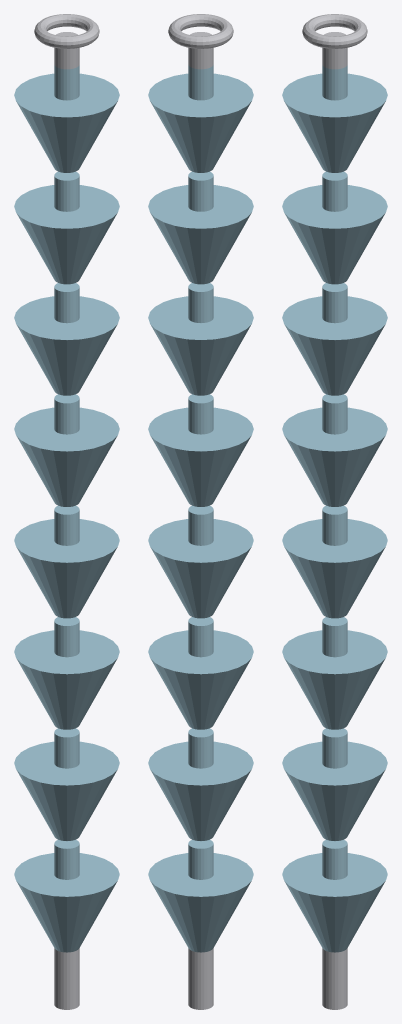
Rendered from Cadena_1022mm.fbx.
3 views of the same model, side by side, from view 1: azimuth 90°, elevation 25°; view 2: azimuth 150°, elevation 25°; view 3: azimuth 270°, elevation 25° (orthographic).
Parts seen in each view (by area): view 1: Cadena_1022mm; view 2: Cadena_1022mm; view 3: Cadena_1022mm.
Boxes of the visible parts, x1,y1,x2,y2 form: Cadena_1022mm: (14, 14, 119, 1009); Cadena_1022mm: (148, 14, 253, 1009); Cadena_1022mm: (282, 14, 387, 1009).
Size of the model in its own units: 10 by 102 by 10.
